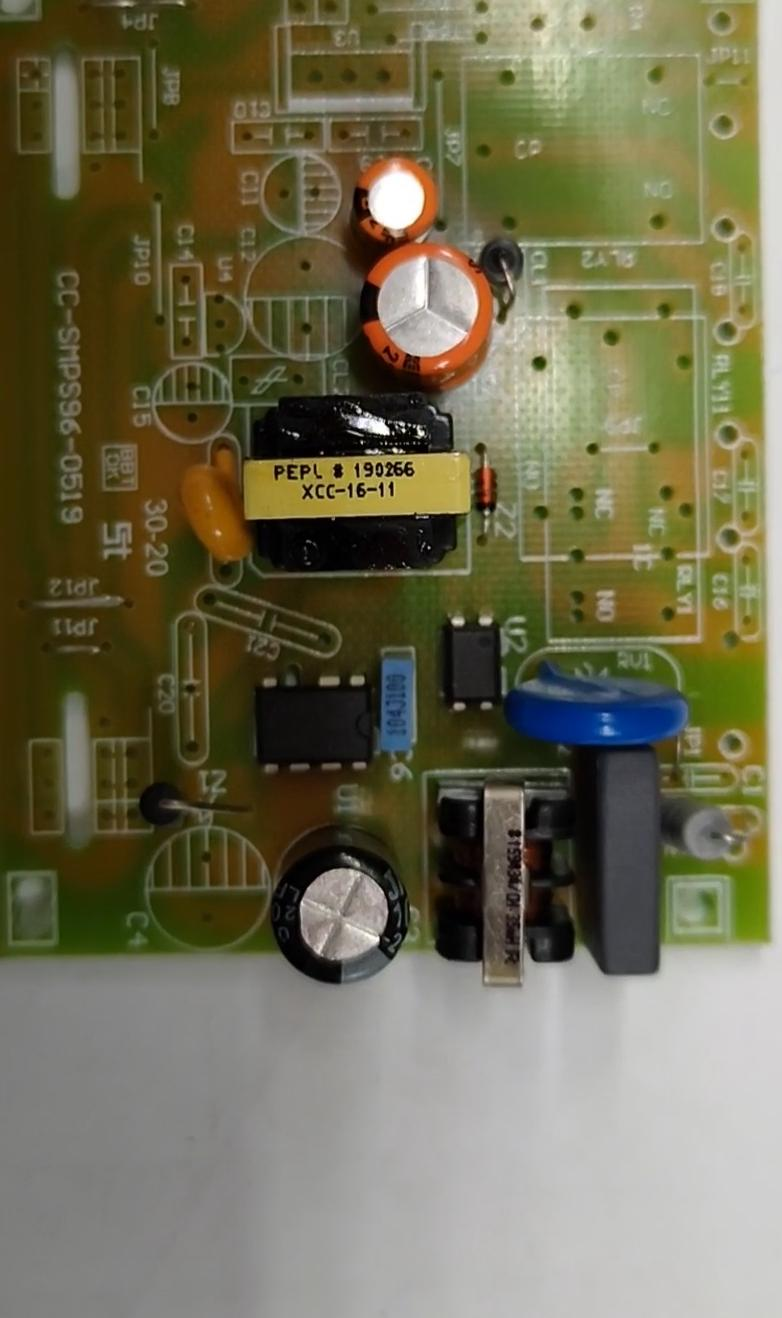Cap1: (359, 240, 496, 376)
Cap2: (354, 157, 438, 243)
Cap3: (282, 827, 409, 985)
MOSFET: (264, 674, 373, 773)
Mov: (519, 663, 689, 749)
Resistor: (661, 783, 739, 859)
Transformer: (247, 398, 459, 570), (434, 782, 574, 993)
